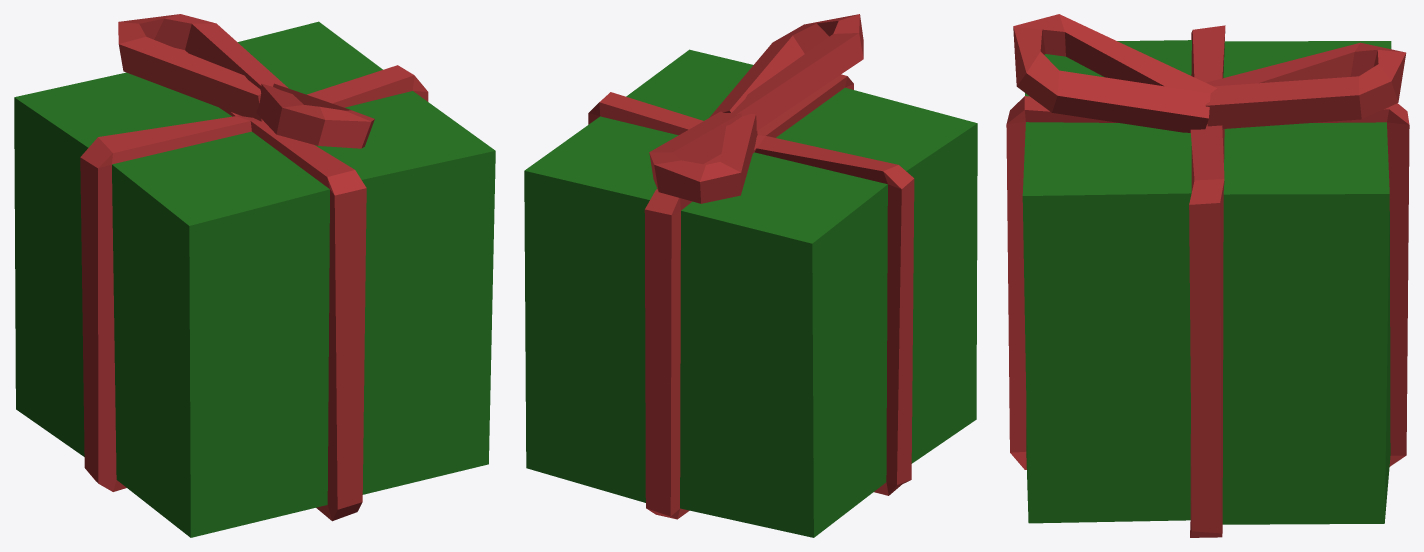
File: item_lost_gift.fbx
3 renders of one model, left to right at view 1: azimuth 30°, elevation 25°; view 2: azimuth 150°, elevation 25°; view 3: azimuth 270°, elevation 25°, orthographic. The views are drawn at different scales.
Visible parts, largest first — view 1: item_lost_gift; view 2: item_lost_gift; view 3: item_lost_gift.
Part boxes in pixels (x1,y1,x2,y2): item_lost_gift: [14, 14, 495, 537]; item_lost_gift: [524, 14, 977, 537]; item_lost_gift: [1006, 14, 1409, 537].
Bounding box in the file's own units: 520 × 613 × 523.
